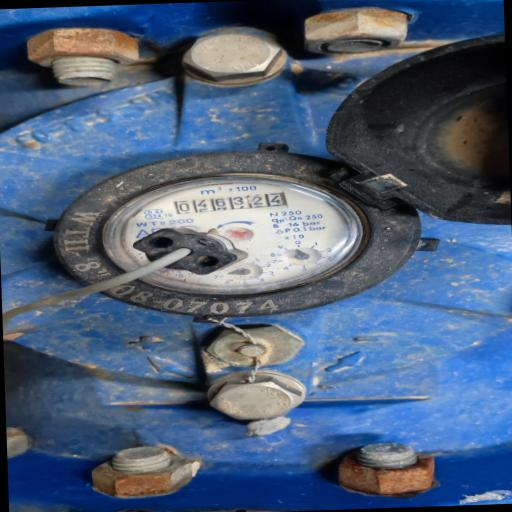0: (174, 202, 192, 212)
2: (248, 196, 264, 206)
3: (229, 196, 246, 206)
4: (266, 194, 284, 204), (193, 199, 211, 208)
6: (212, 197, 228, 207)
medida: (171, 192, 288, 214)
